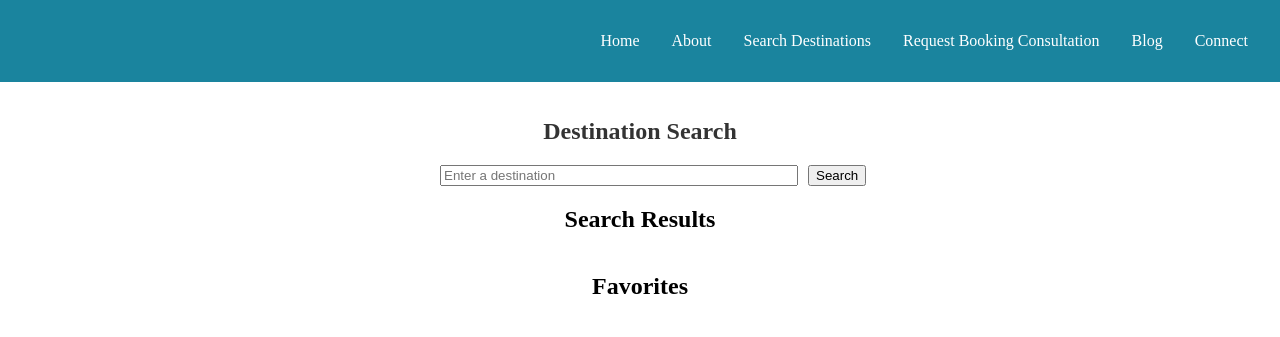
Test: SearchDestinations › displays error message on API failure
The width and height of the screenshot is (1280, 337).
Type "Paris" into the field with placeholder "Enter a destination" at (619, 176), box 440,165 -> 798,186
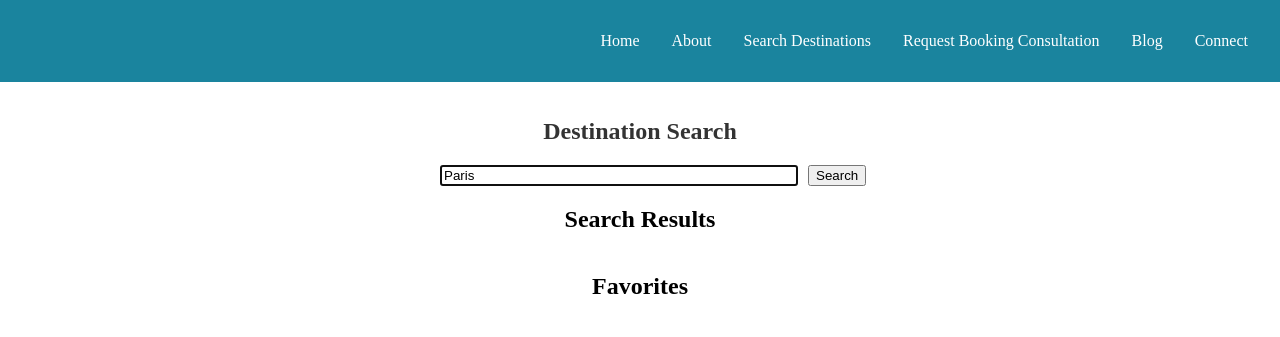
Click the button "Search" at (837, 176), box 808,165 -> 866,186
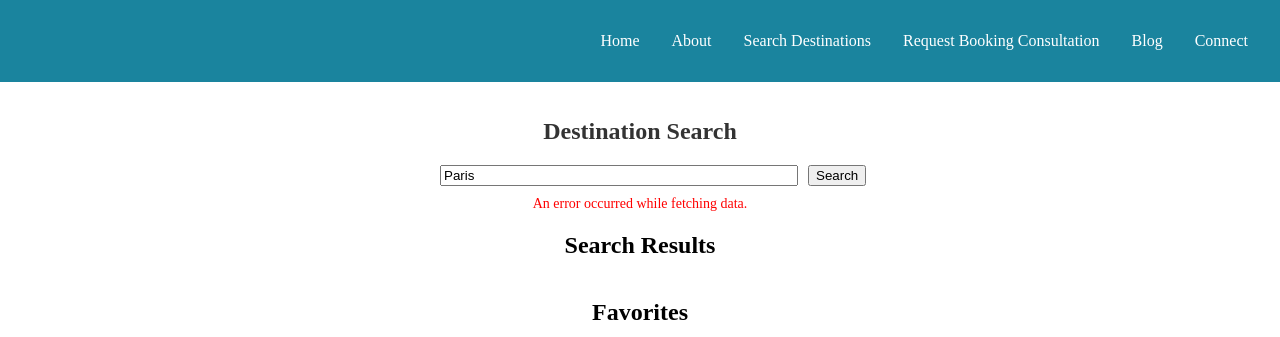
Expected: the text "An error occurred while fetching data." is shown, 533,196 -> 747,211
